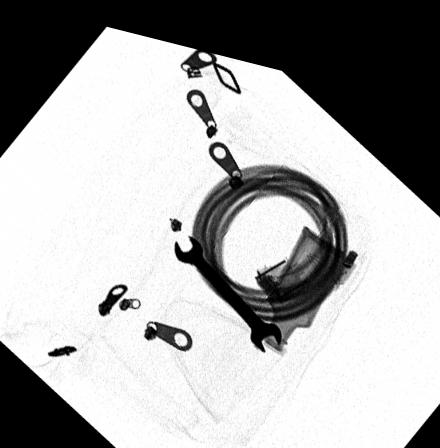Wrench: (171, 225, 281, 340)
